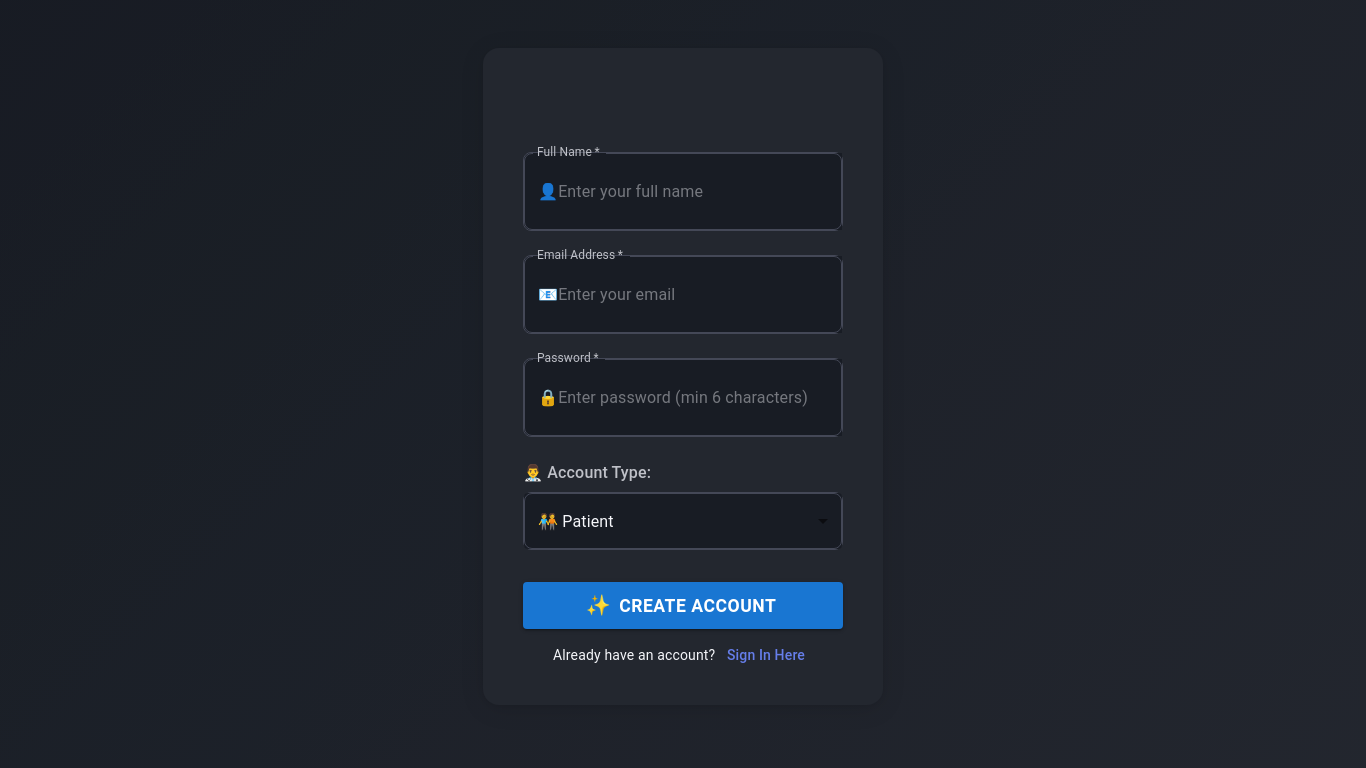
Test: Register Component (API Error) › shows error message on API failure
The width and height of the screenshot is (1366, 768).
Type "Test User" into the field labelled "Full Name *".
click(700, 192); type("Test User")  # box [558, 153, 842, 230]
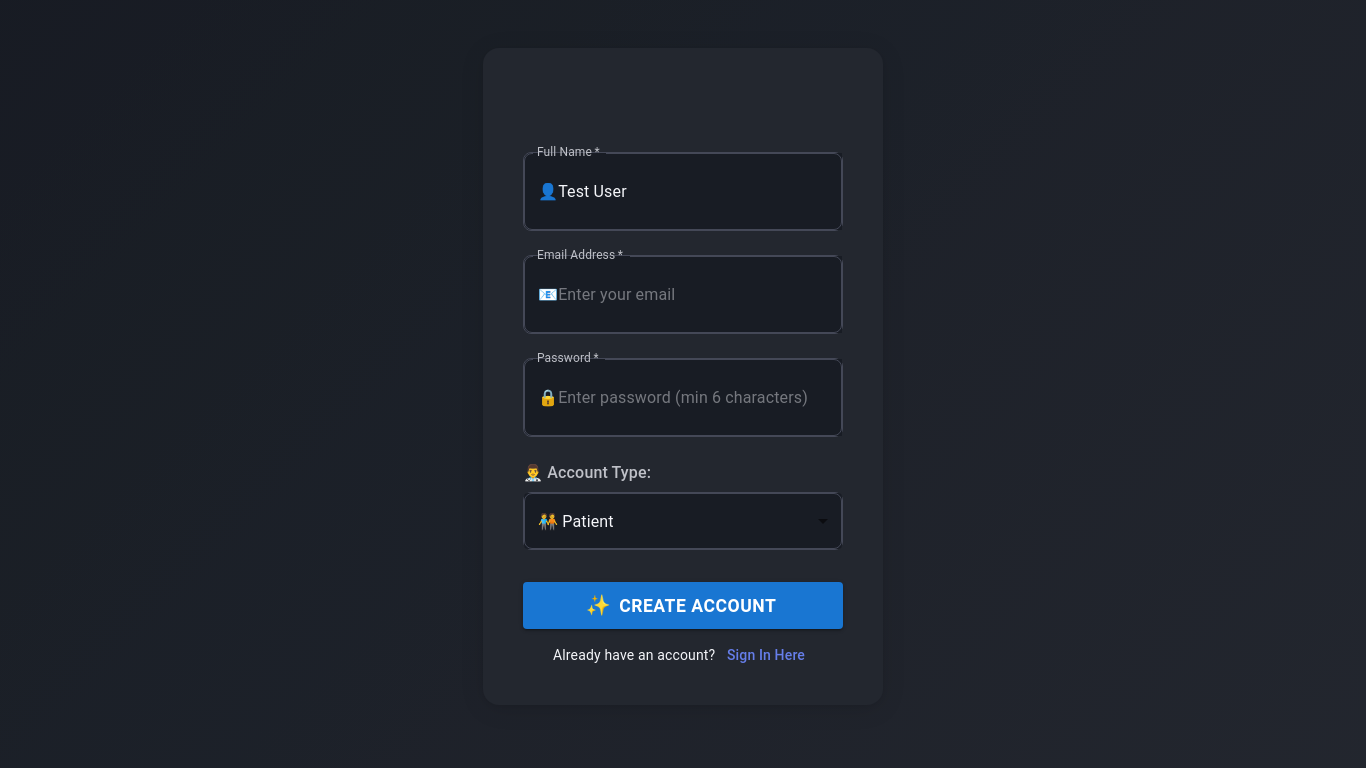
Type "test@example.com" into the field labelled "Email Address *".
click(700, 295); type("test@example.com")  # box [558, 256, 842, 333]
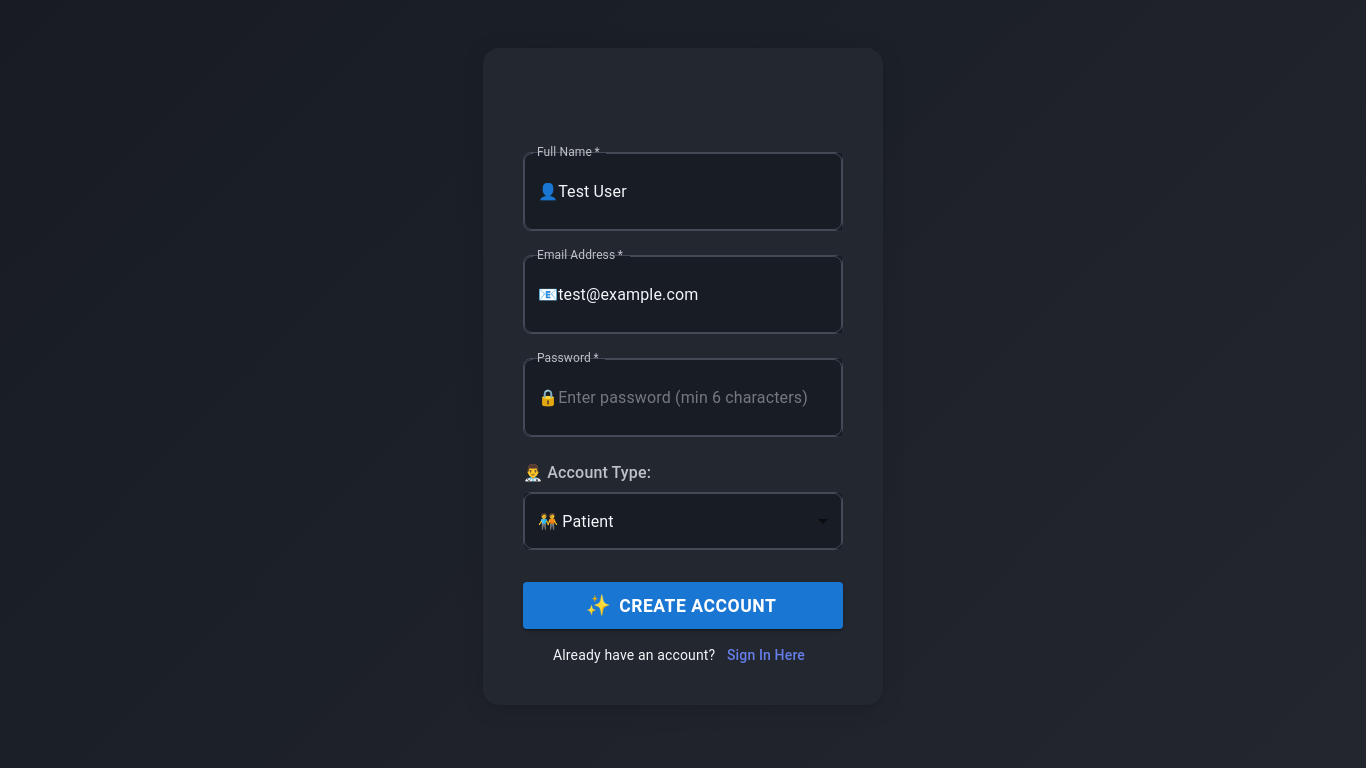
Type "password123" into the password field labelled "Password *".
click(700, 398); type("password123")  # box [558, 359, 842, 436]
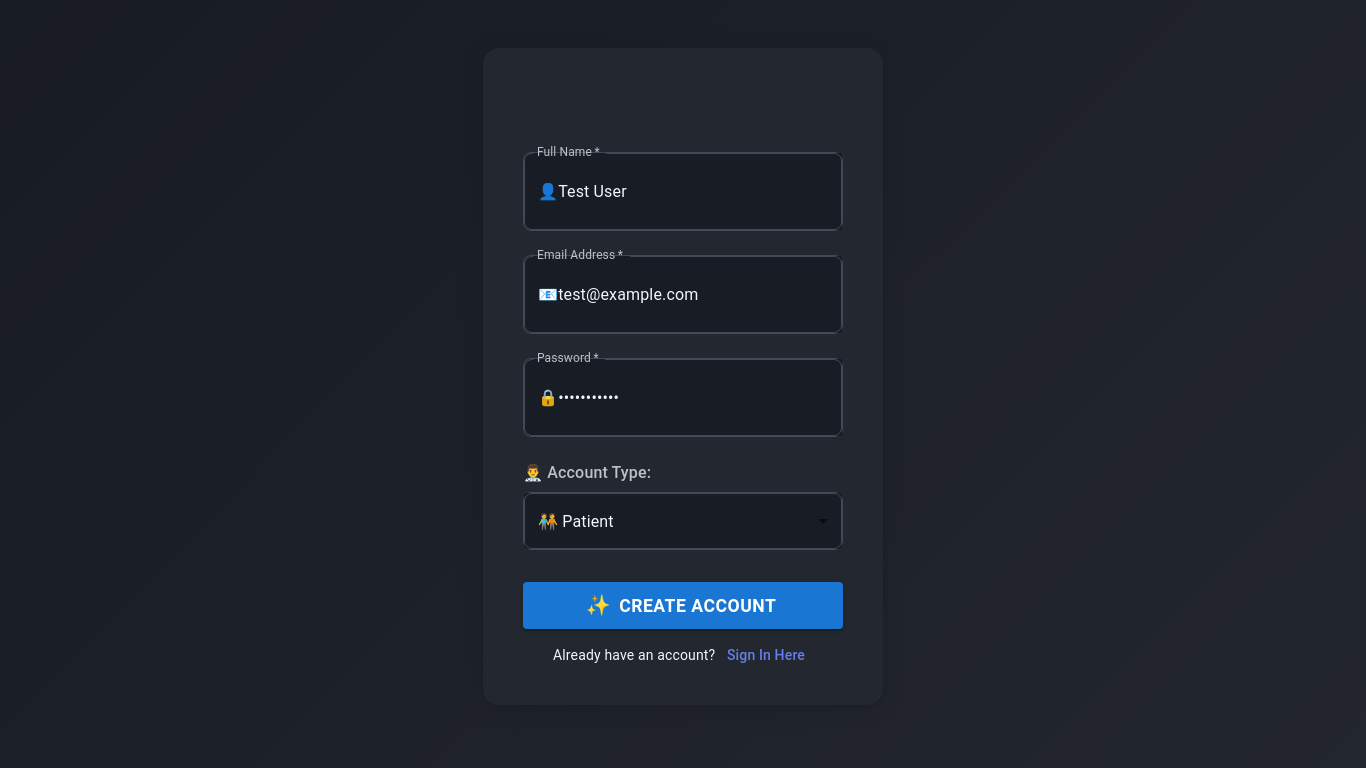
Click the button "✨ Create Account".
click(683, 606)  # box [523, 582, 843, 629]
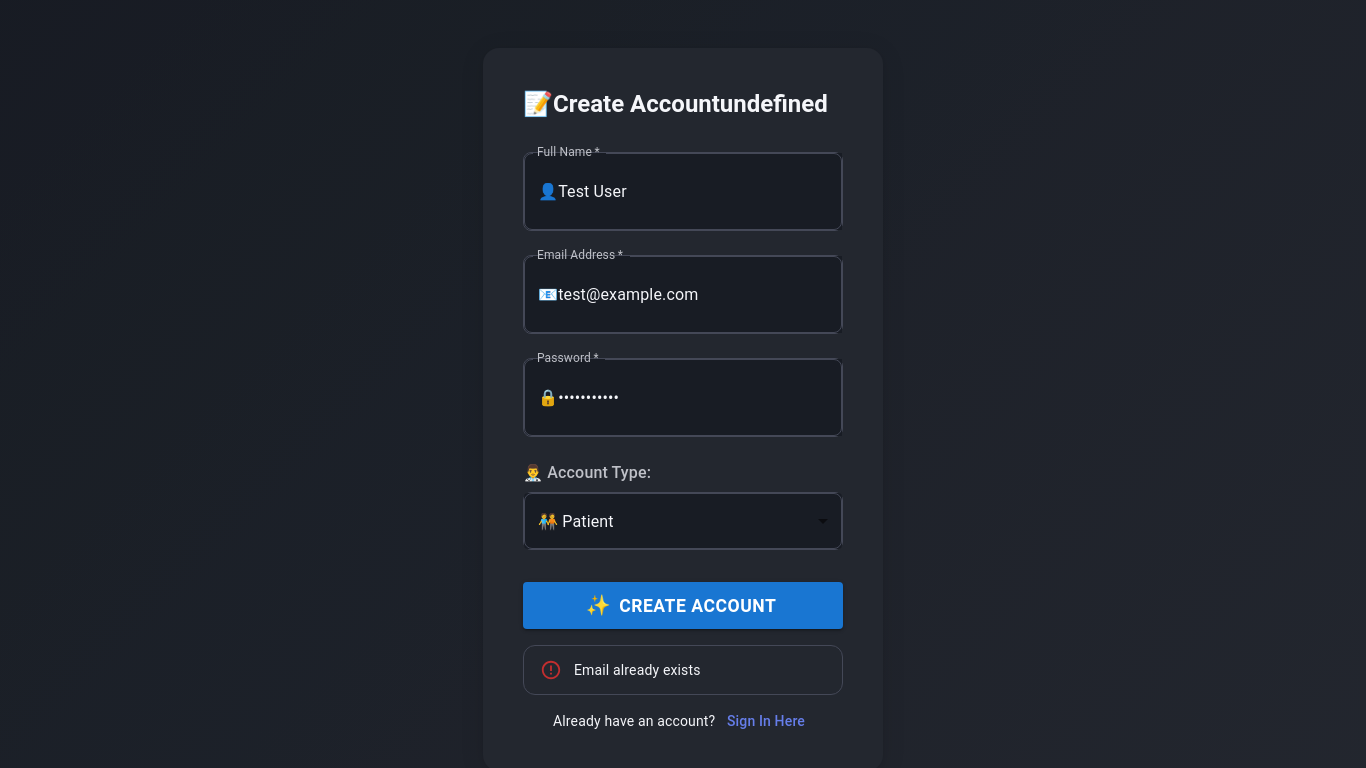
Check: the text "Email already exists" is shown, box [574, 662, 701, 678]
